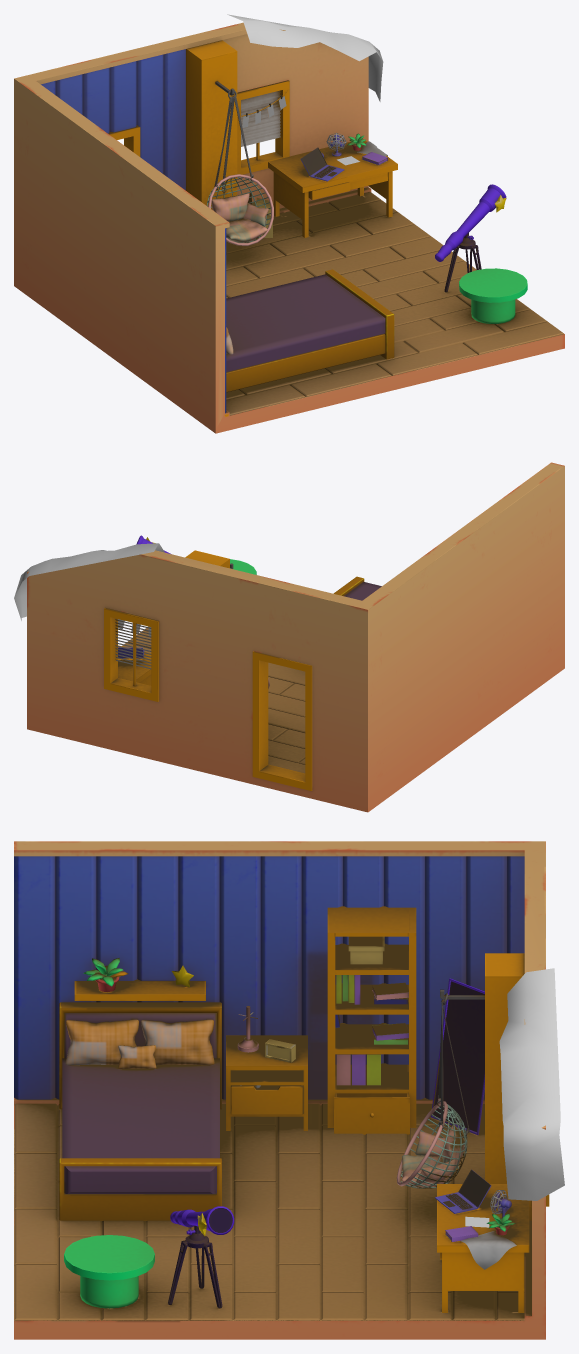
The model's file is phong ngu (1).fbx.
3 renders of one model, top to bottom at view 1: azimuth 30°, elevation 25°; view 2: azimuth 150°, elevation 25°; view 3: azimuth 270°, elevation 25°, orthographic. The views are drawn at different scales.
Visible parts, largest first — view 1: polySurface1878, polySurface1851, polySurface1910, polySurface1416, polySurface1912, pPlane5, polySurface1504, polySurface1458, polySurface1508, polySurface1862, polySurface1911, polySurface1677 (+2 smaller); view 2: polySurface1878, pPlane5, polySurface1862, polySurface1416; view 3: polySurface1878, polySurface1851, polySurface1910, pPlane5, polySurface1774, polySurface1911, polySurface1416, polySurface1516, polySurface1504, polySurface1913, polySurface1427, polySurface1458 (+12 smaller).
Part boxes in pixels (<box>): polySurface1878: <box>14,22,564,433</box>; polySurface1851: <box>41,49,226,413</box>; polySurface1910: <box>226,274,385,371</box>; polySurface1416: <box>268,138,397,237</box>; polySurface1912: <box>226,334,385,392</box>; pPlane5: <box>227,14,383,101</box>; polySurface1504: <box>459,268,527,323</box>; polySurface1458: <box>206,81,273,245</box>; polySurface1508: <box>435,184,506,292</box>; polySurface1862: <box>241,90,280,160</box>; polySurface1911: <box>325,269,394,359</box>; polySurface1677: <box>211,193,249,221</box>; polySurface1878: <box>27,462,564,812</box>; pPlane5: <box>14,543,164,620</box>; polySurface1862: <box>115,619,151,686</box>; polySurface1416: <box>118,645,151,685</box>; polySurface1878: <box>14,841,549,1339</box>; polySurface1851: <box>14,856,524,1099</box>; polySurface1910: <box>62,1058,219,1158</box>; pPlane5: <box>499,968,564,1200</box>; polySurface1774: <box>327,906,416,1127</box>; polySurface1911: <box>59,1158,221,1220</box>; polySurface1416: <box>437,1184,529,1312</box>; polySurface1516: <box>430,978,484,1135</box>; polySurface1504: <box>64,1235,154,1308</box>; polySurface1913: <box>59,1002,221,1109</box>; polySurface1427: <box>226,1035,307,1130</box>; polySurface1458: <box>396,989,484,1188</box>.
Bounding box in the file's own units: 1476 × 838 × 1464.
